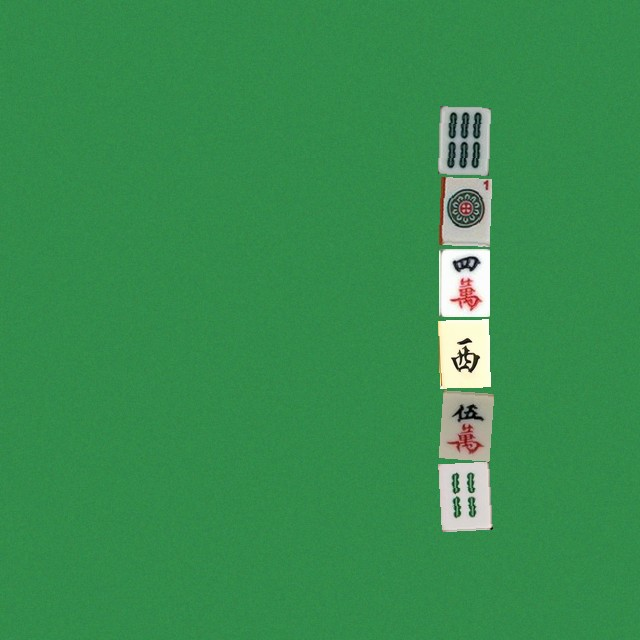tile: (438, 106, 489, 174), (438, 177, 489, 245), (438, 248, 489, 316), (438, 319, 489, 387), (438, 390, 489, 458), (438, 461, 489, 529)
